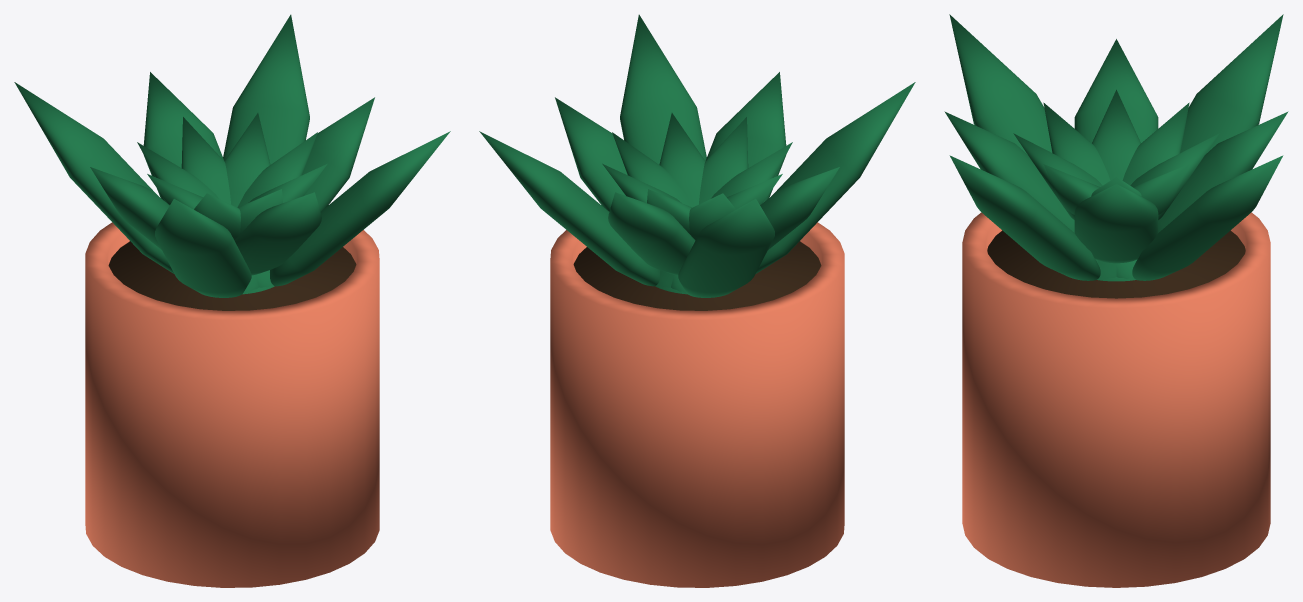
File: PotBook.fbx
The picture shows the model from 3 angles, left to right: view 1: azimuth 30°, elevation 25°; view 2: azimuth 150°, elevation 25°; view 3: azimuth 270°, elevation 25°; orthographic projection. The views are drawn at different scales.
Visible parts, largest first — view 1: Pot, Cylinder.007, Cylinder.006, Cylinder, Cylinder.005, Cylinder.008, Cylinder.002, Cylinder.003, Cylinder.001, Cylinder.004, Cylinder.011, Cylinder.016 (+6 smaller); view 2: Pot, Cylinder.006, Cylinder.007, Cylinder, Cylinder.008, Cylinder.005, Cylinder.001, Cylinder.003, Cylinder.002, Cylinder.004, Cylinder.010, Cylinder.015 (+6 smaller); view 3: Pot, Cylinder.006, Cylinder.007, Cylinder, Cylinder.005, Cylinder.008, Cylinder.003, Cylinder.004, Cylinder.001, Cylinder.002, Cylinder.013, Cylinder.009 (+5 smaller).
Boxes of the visible parts, x1=… form: Pot: x1=85, y1=222, x2=379, y2=587; Cylinder.007: x1=270, y1=131, x2=450, y2=286; Cylinder.006: x1=223, y1=14, x2=309, y2=164; Cylinder: x1=108, y1=241, x2=356, y2=310; Cylinder.005: x1=155, y1=199, x2=251, y2=297; Cylinder.008: x1=14, y1=82, x2=174, y2=273; Cylinder.002: x1=234, y1=192, x2=321, y2=275; Cylinder.003: x1=302, y1=97, x2=374, y2=211; Cylinder.001: x1=143, y1=72, x2=224, y2=202; Cylinder.004: x1=90, y1=167, x2=169, y2=249; Cylinder.011: x1=224, y1=113, x2=270, y2=293; Cylinder.016: x1=181, y1=117, x2=274, y2=294; Pot: x1=550, y1=222, x2=844, y2=587; Cylinder.006: x1=479, y1=131, x2=659, y2=286; Cylinder.007: x1=620, y1=14, x2=706, y2=164; Cylinder: x1=573, y1=241, x2=821, y2=310; Cylinder.008: x1=678, y1=199, x2=774, y2=297; Cylinder.005: x1=755, y1=82, x2=915, y2=273; Cylinder.001: x1=608, y1=192, x2=695, y2=275; Cylinder.003: x1=555, y1=97, x2=627, y2=211; Cylinder.002: x1=705, y1=72, x2=786, y2=202; Cylinder.004: x1=760, y1=167, x2=839, y2=249; Cylinder.010: x1=659, y1=113, x2=705, y2=293; Cylinder.015: x1=655, y1=117, x2=748, y2=294; Pot: x1=962, y1=212, x2=1270, y2=587; Cylinder.006: x1=1132, y1=155, x2=1283, y2=280; Cylinder.007: x1=949, y1=155, x2=1100, y2=280; Cylinder: x1=987, y1=230, x2=1245, y2=298; Cylinder.005: x1=949, y1=14, x2=1052, y2=154; Cylinder.008: x1=1180, y1=14, x2=1283, y2=154; Cylinder.003: x1=1074, y1=184, x2=1158, y2=263; Cylinder.004: x1=1074, y1=39, x2=1158, y2=142; Cylinder.001: x1=1158, y1=111, x2=1288, y2=232; Cylinder.002: x1=944, y1=111, x2=1074, y2=232; Cylinder.013: x1=1092, y1=89, x2=1140, y2=281; Cylinder.009: x1=1097, y1=102, x2=1189, y2=279.
Size of the model in its own units: 824 by 1158 by 824.
